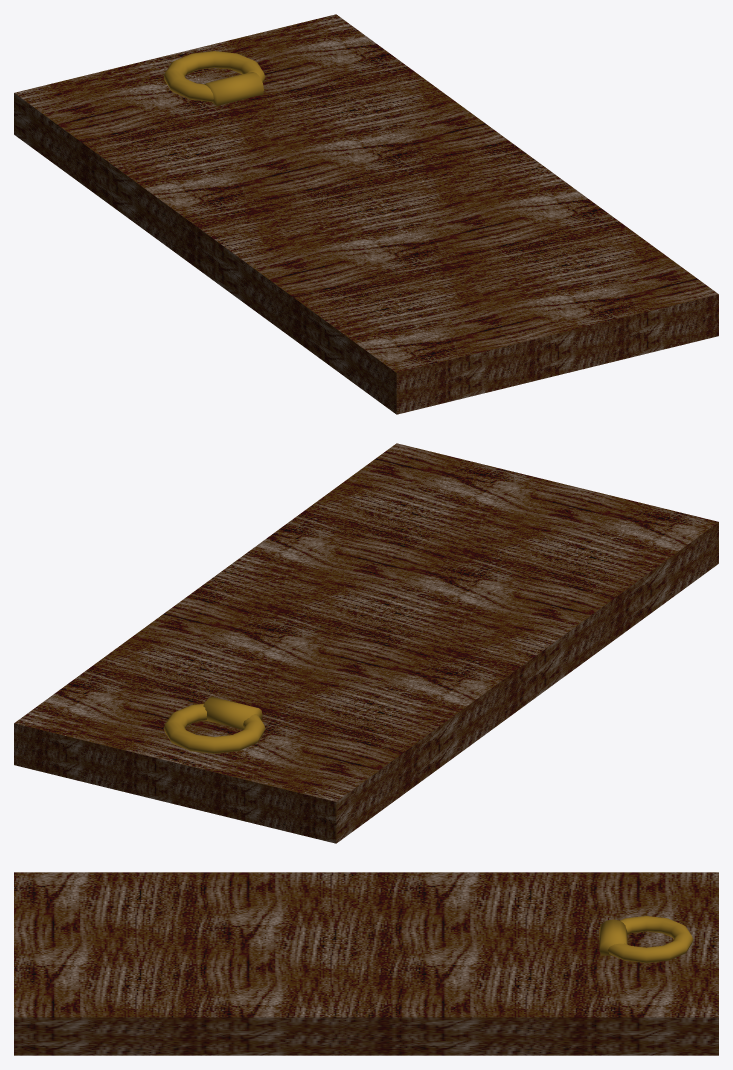
Rendered from trapdoor.glb.
The picture shows the model from 3 angles, top to bottom: view 1: azimuth 30°, elevation 25°; view 2: azimuth 150°, elevation 25°; view 3: azimuth 270°, elevation 25°; orthographic projection. The views are drawn at different scales.
Parts seen in each view (by area): view 1: Cube, Torus; view 2: Cube, Torus; view 3: Cube, Torus.
Boxes of the visible parts, x1,y1,x2,y2 form: Cube: [14, 14, 718, 414]; Torus: [163, 51, 265, 105]; Cube: [14, 443, 718, 843]; Torus: [163, 697, 265, 753]; Cube: [14, 872, 718, 1055]; Torus: [599, 916, 693, 963].
Size of the model in its own units: 2.44 by 0.4221 by 5.01.
Materials: 2 (1 with a texture image).
